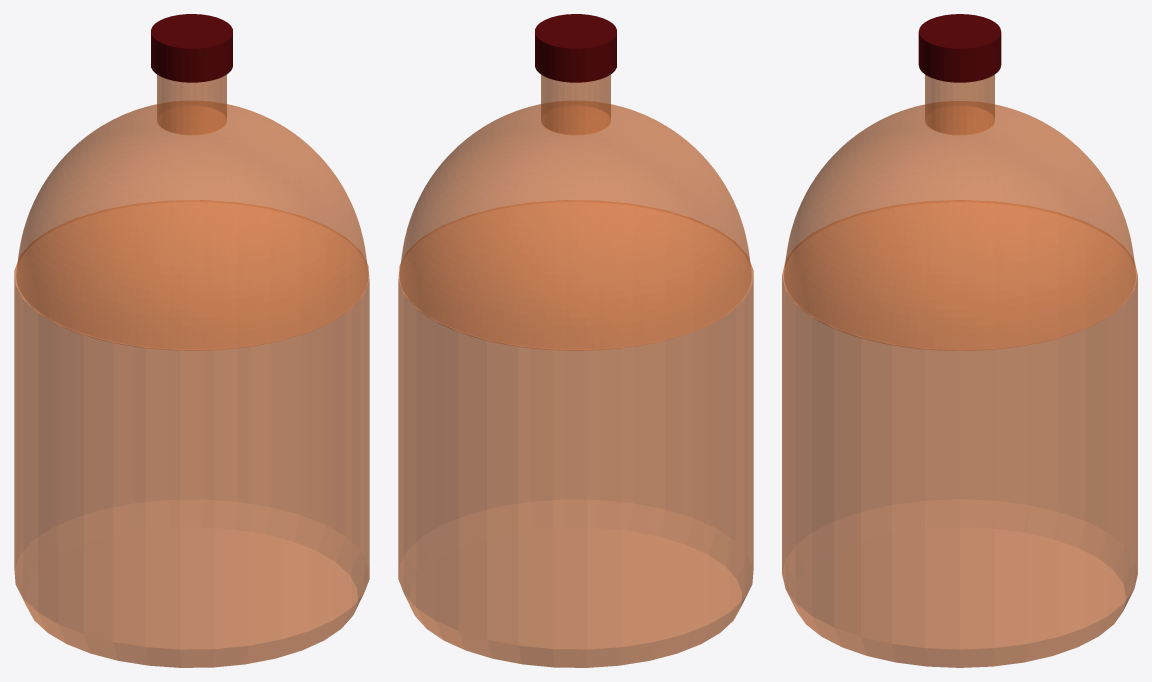
File: MedicineCabinet4.fbx
The picture shows the model from 3 angles, left to right: view 1: azimuth 30°, elevation 25°; view 2: azimuth 150°, elevation 25°; view 3: azimuth 270°, elevation 25°; orthographic projection.
Parts seen in each view (by area): view 1: 円柱, 球, 円柱.002, 円柱.001; view 2: 円柱, 球, 円柱.002, 円柱.001; view 3: 円柱, 球, 円柱.002, 円柱.001.
Boxes of the visible parts, <box> form: 円柱: <box>14,200,369,667</box>; 球: <box>16,101,368,350</box>; 円柱.002: <box>151,14,232,82</box>; 円柱.001: <box>157,74,226,134</box>; 円柱: <box>398,200,753,667</box>; 球: <box>399,101,751,350</box>; 円柱.002: <box>535,14,616,82</box>; 円柱.001: <box>541,74,610,134</box>; 円柱: <box>782,200,1137,667</box>; 球: <box>784,101,1135,350</box>; 円柱.002: <box>918,14,1001,82</box>; 円柱.001: <box>925,74,994,135</box>.
Size of the model in its own units: 10.86 by 19.07 by 10.86.
